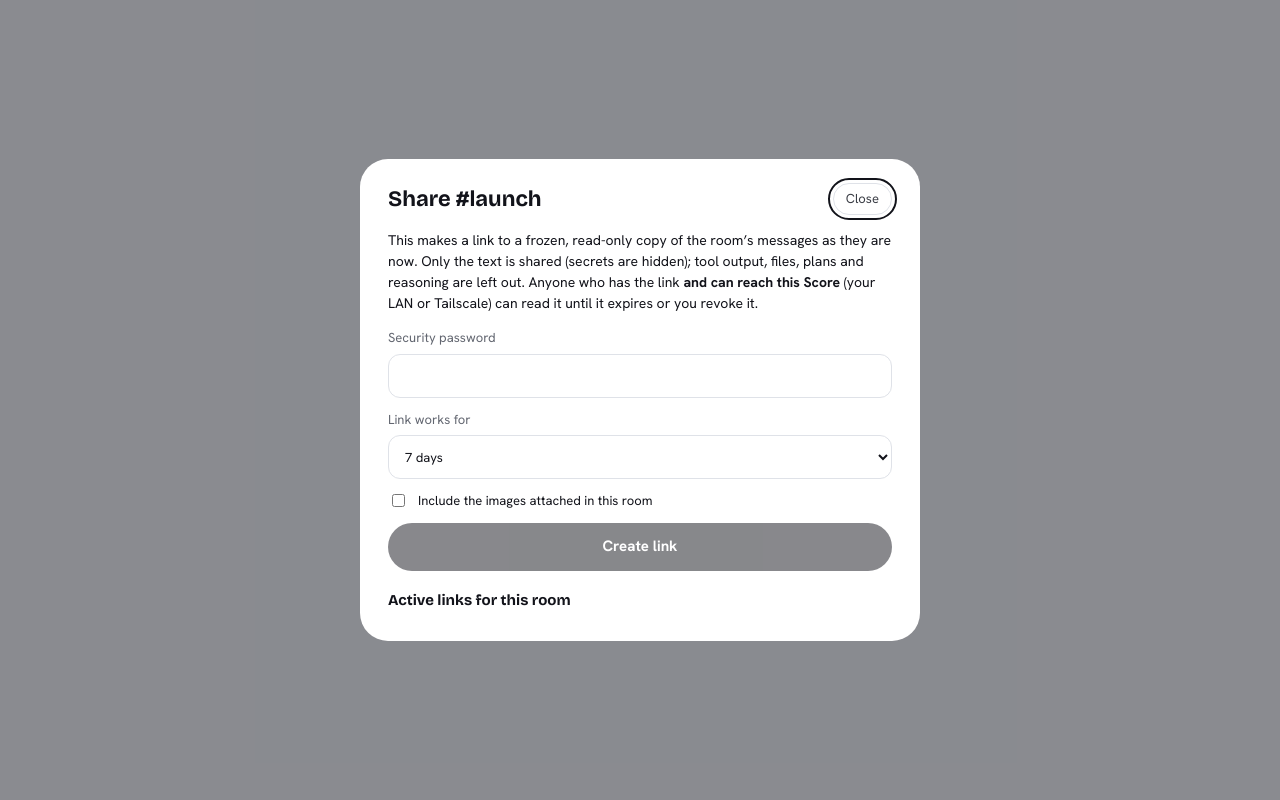
Test case: a wrong password is explained and no link is shown
Step 1. Type "wrong password" into the password field labelled "Security password" → coordinates (640, 376), box [388, 354, 892, 398]
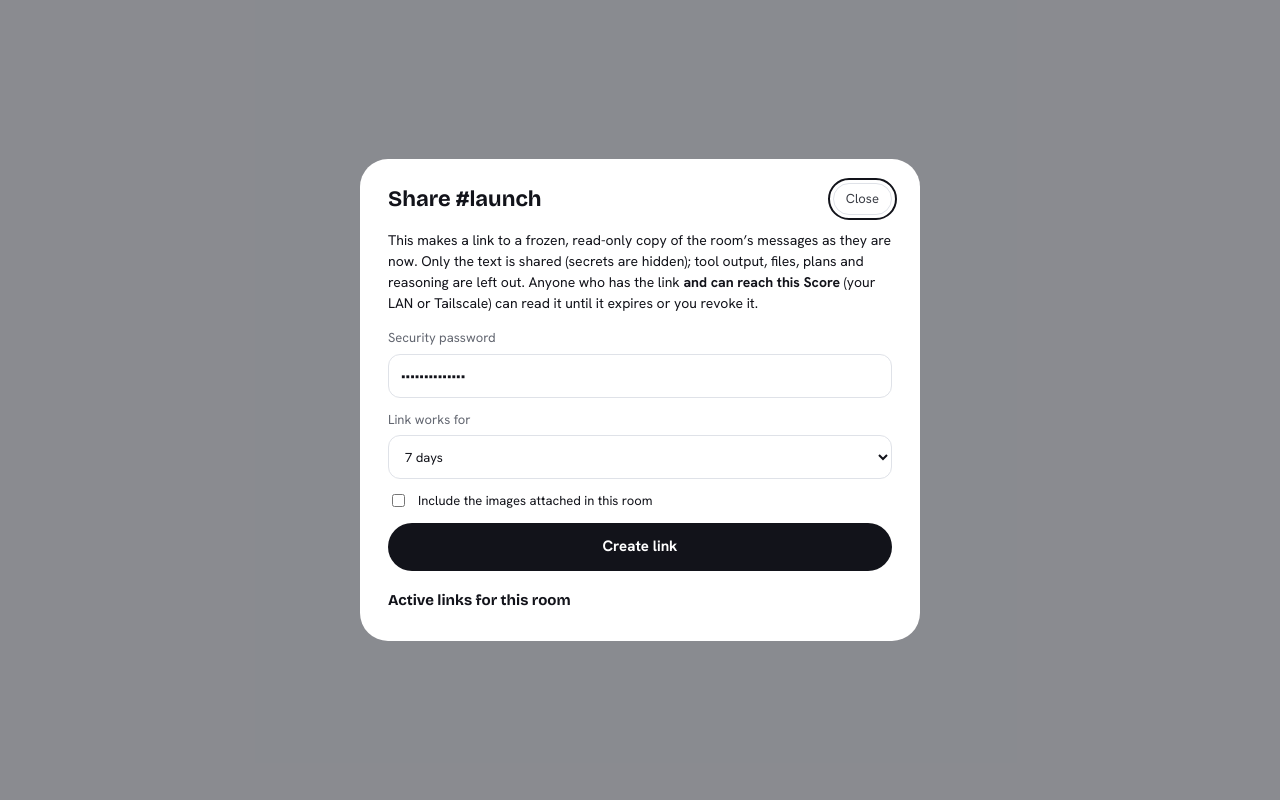
Step 2. Click the button "Create link" → coordinates (640, 546), box [388, 522, 892, 570]
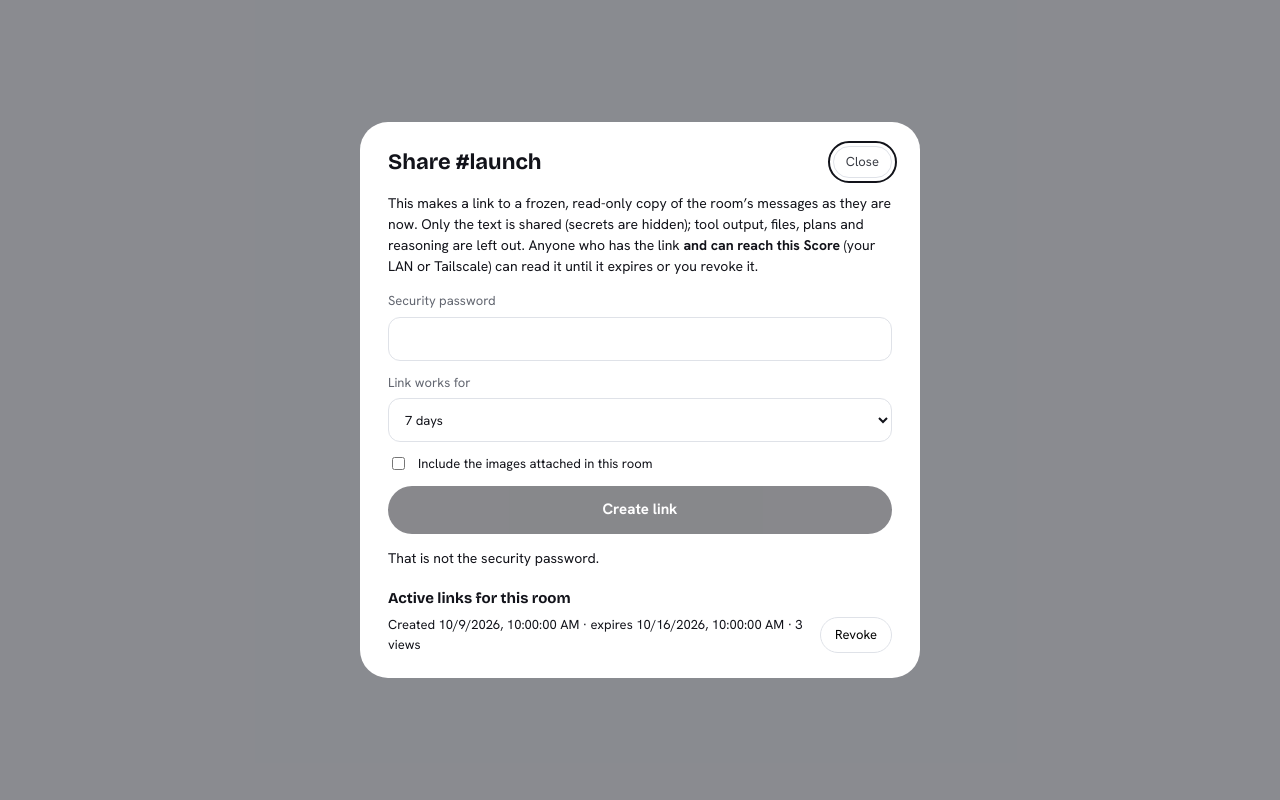
Now the message reads "That is not the security password.", box [388, 548, 599, 566]
